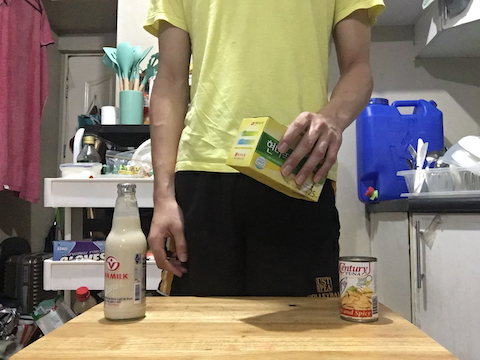bottle: (99, 179, 154, 325)
box: (225, 107, 339, 205)
can: (336, 251, 383, 326)
grab: (276, 110, 342, 187)
